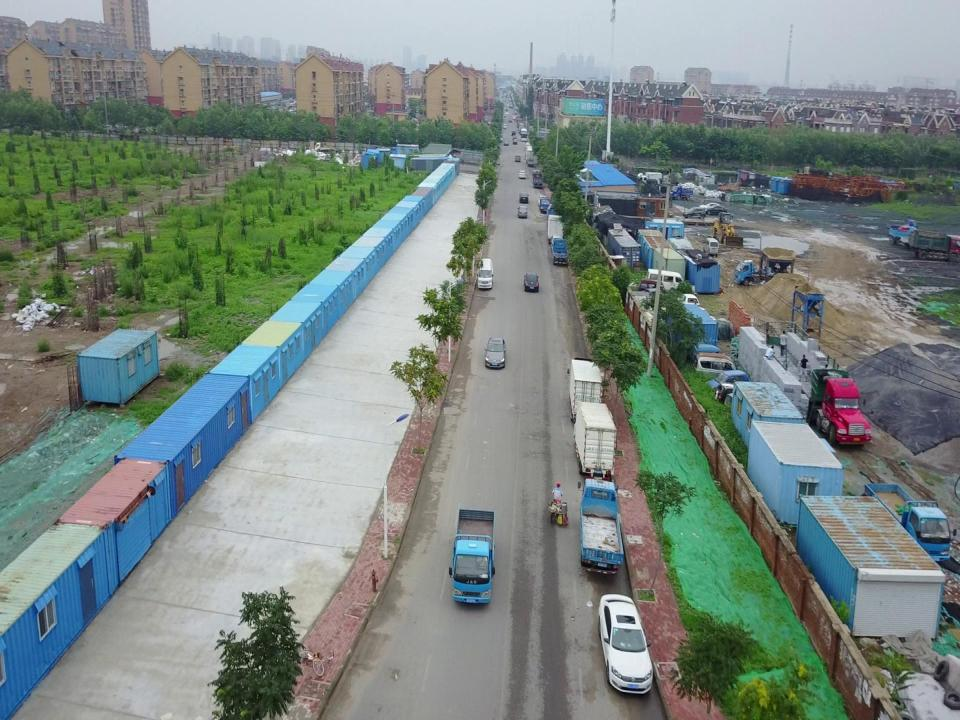car: (596, 592, 654, 696), (703, 369, 750, 395), (713, 382, 753, 405), (484, 335, 508, 370), (672, 292, 700, 311), (523, 271, 541, 294), (682, 205, 706, 220), (699, 201, 725, 214), (702, 205, 728, 215), (517, 204, 529, 219), (518, 191, 530, 203), (518, 169, 526, 180), (526, 158, 535, 167)
truck: (752, 316, 874, 447), (862, 481, 958, 565), (576, 476, 626, 575), (448, 507, 496, 608), (573, 400, 619, 480), (566, 357, 604, 424), (907, 230, 960, 260), (733, 258, 780, 287), (886, 217, 918, 241), (888, 225, 919, 246), (546, 212, 565, 245), (551, 238, 570, 267), (670, 184, 694, 200), (314, 142, 340, 154), (538, 194, 552, 214), (532, 172, 544, 190), (525, 145, 535, 164)
van: (692, 351, 738, 381), (688, 342, 726, 374), (646, 266, 688, 294), (476, 257, 494, 290), (638, 278, 665, 300), (703, 236, 719, 257), (550, 233, 564, 253), (514, 153, 522, 162)
